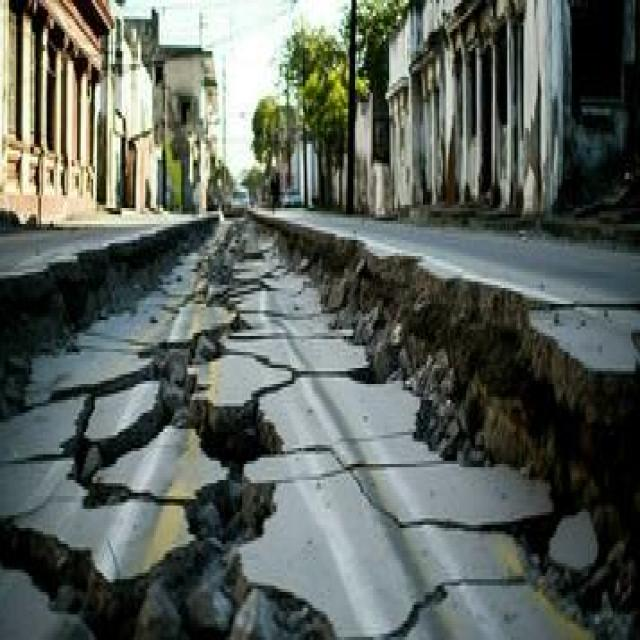road collapse: (2, 131, 640, 640)
